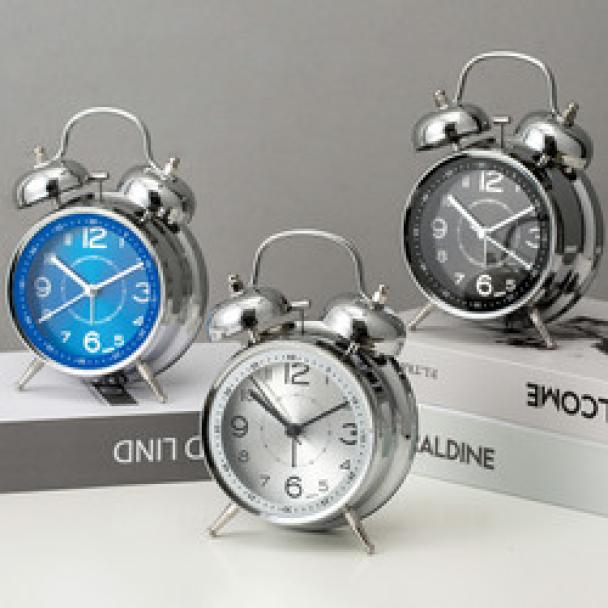Jam: (200, 339, 377, 531), (403, 148, 561, 320), (9, 210, 163, 379)
